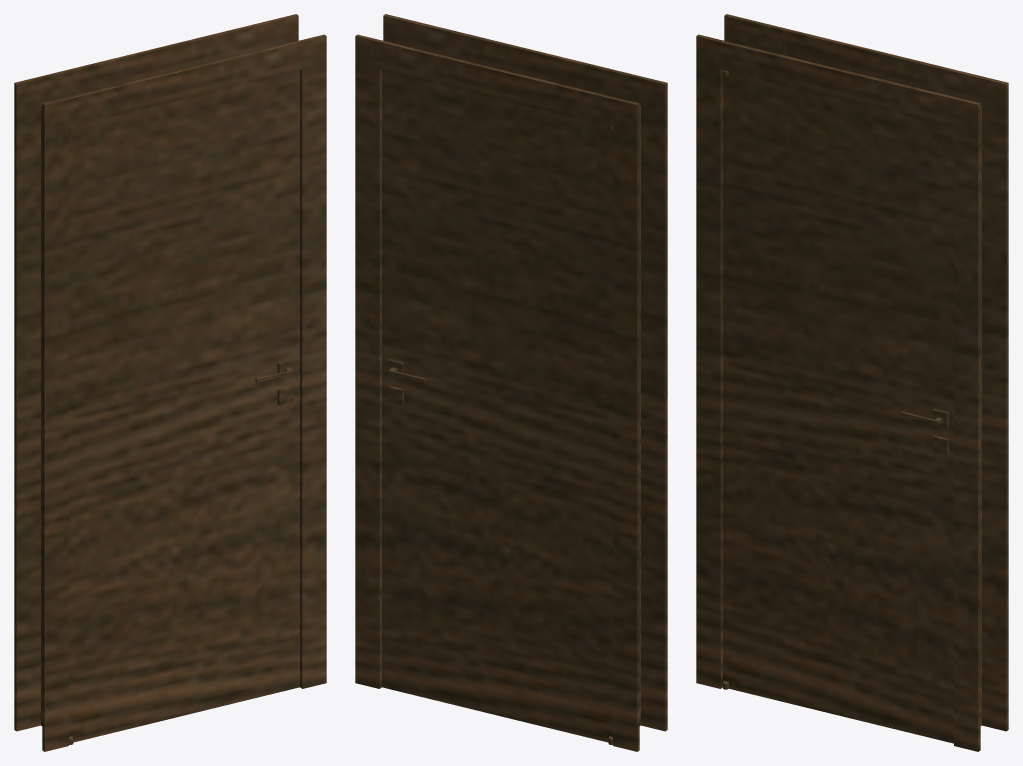
The model's file is door.obj.
3 views of the same model, side by side, from view 1: azimuth 30°, elevation 25°; view 2: azimuth 150°, elevation 25°; view 3: azimuth 330°, elevation 25° (orthographic).
Visible parts, largest first — view 1: zobject; view 2: zobject; view 3: zobject.
Part boxes in pixels (x1,y1,x2,y2): zobject: (14, 14, 326, 751); zobject: (355, 14, 667, 751); zobject: (696, 14, 1008, 751).
Size of the model in its own units: 95.35 by 209 by 22.15.
